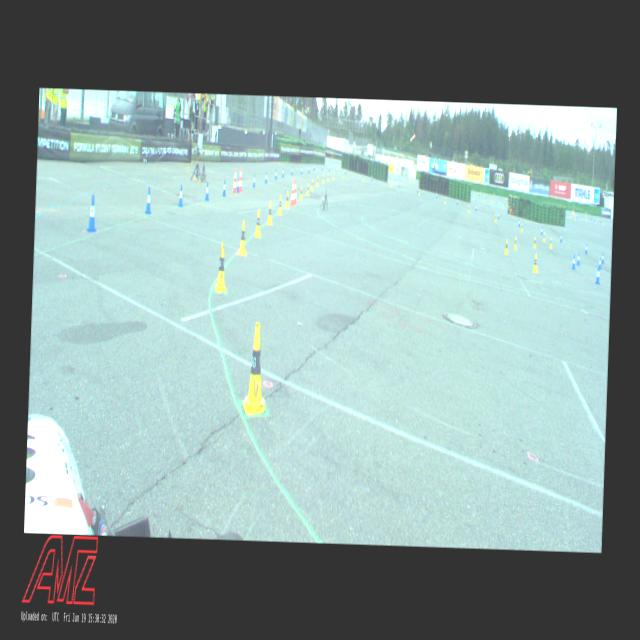blue_cone: (86, 194, 97, 232), (144, 187, 152, 214), (178, 184, 184, 207), (594, 266, 600, 284), (204, 182, 210, 200), (222, 180, 226, 197), (571, 254, 575, 270), (576, 252, 580, 265), (264, 171, 268, 183), (236, 176, 239, 192), (252, 174, 255, 186), (598, 257, 601, 269), (601, 252, 604, 264), (584, 244, 587, 254), (274, 168, 276, 180), (282, 166, 284, 176), (290, 166, 292, 175), (560, 233, 562, 242), (540, 226, 542, 234), (518, 218, 520, 226), (474, 203, 476, 210), (498, 211, 500, 218)
large_orange_cone: (232, 168, 237, 193), (290, 180, 295, 204), (294, 179, 298, 204), (239, 167, 243, 190)
yellow_cone: (242, 322, 268, 414), (215, 242, 228, 292), (238, 220, 247, 254), (254, 208, 262, 236), (266, 200, 272, 224), (532, 254, 538, 272), (278, 195, 282, 215), (284, 190, 288, 208), (504, 238, 508, 254), (306, 182, 309, 195), (533, 236, 536, 248), (549, 237, 552, 248), (514, 236, 516, 249), (300, 186, 302, 199), (310, 178, 312, 190), (542, 232, 544, 242), (520, 222, 522, 232), (316, 176, 318, 186), (494, 213, 496, 222), (326, 172, 328, 181), (322, 174, 324, 183), (468, 205, 470, 212)
